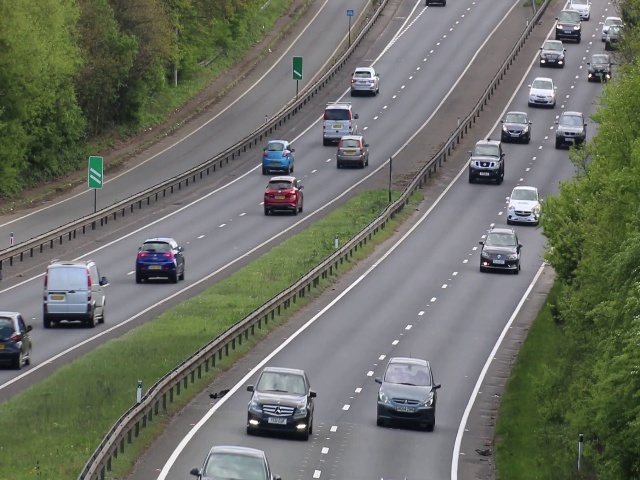car: (248, 365, 313, 441), (44, 260, 106, 331), (379, 356, 437, 430), (134, 238, 184, 283), (260, 172, 306, 216), (481, 228, 520, 275), (1, 311, 32, 369), (469, 139, 505, 185), (323, 100, 358, 145), (507, 184, 541, 226), (336, 134, 371, 169), (262, 139, 295, 175), (557, 110, 586, 150), (501, 110, 532, 144), (527, 76, 556, 109), (350, 66, 379, 97), (556, 9, 581, 44), (539, 38, 567, 68), (586, 53, 611, 83)
